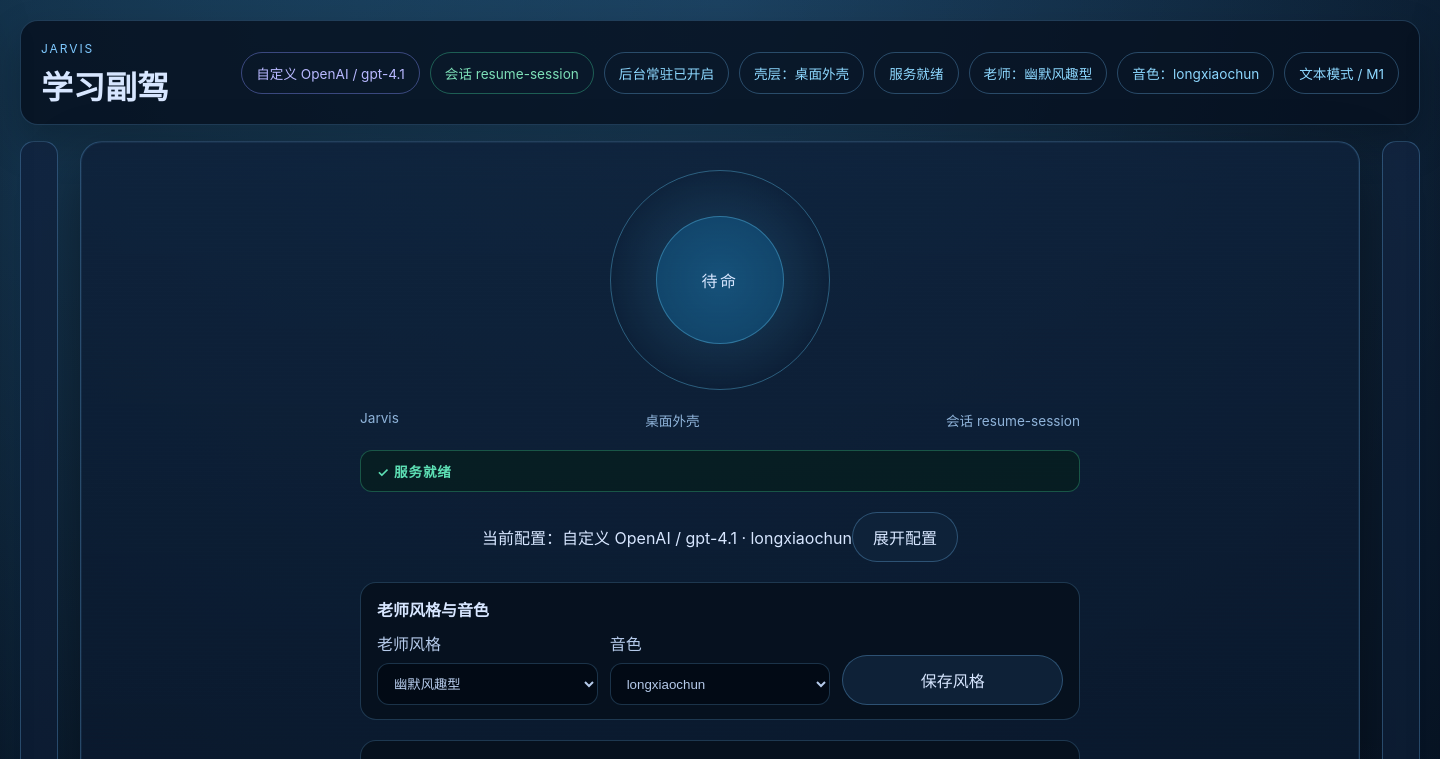
Test case: shows collapsed runtime summary by default, expands to reveal editable settings labels
This screenshot has width=1440, height=759.
expect the text "自定义 OpenAI / gpt-4.1" is shown: met, box 241,52 -> 420,94
expect the text "LLM 提供商" is not shown: met
# Expand the settings
Click the button "展开配置". click: (905, 537)
box: 852,512 -> 958,562
(page scrolled)
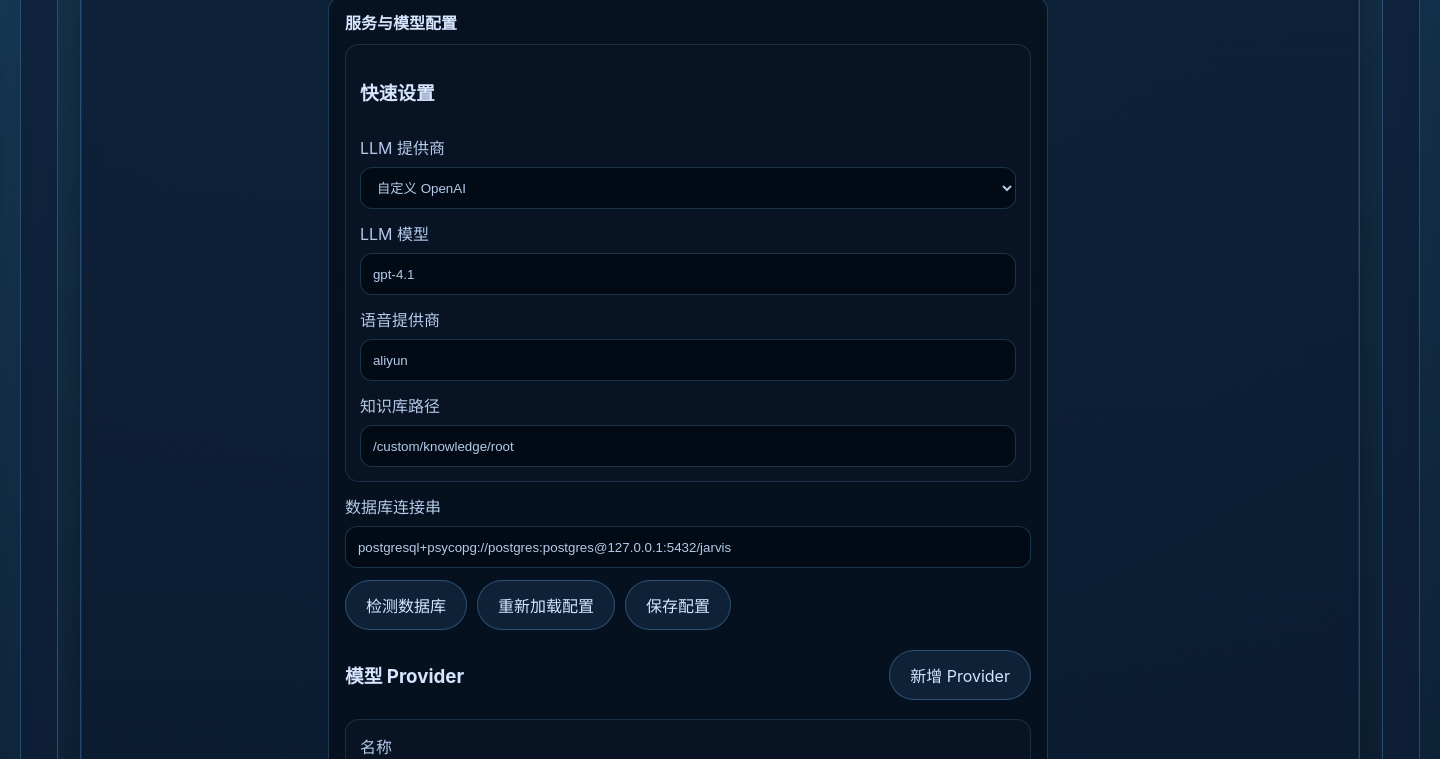
expect the text "LLM 提供商" is shown: met, box 360,138 -> 445,158
expect the text "LLM 模型" is shown: met, box 360,224 -> 429,244
expect the text "语音提供商" is shown: met, box 360,310 -> 440,330
